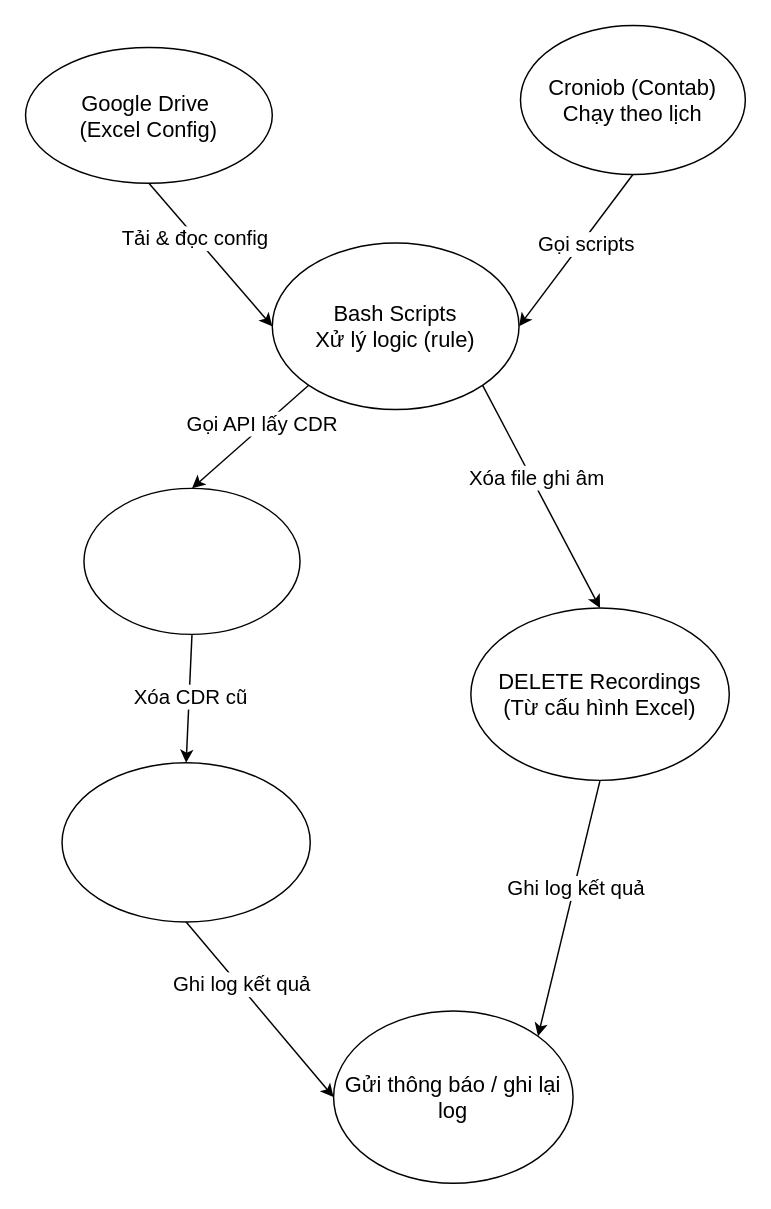
Image size: 771x1209. Some labels were removed from this diagram. The box of each missing label's shape, as (x1, y1, x2, y2) in pixels:
API Get CDR (Theo cấu hình): (82, 487, 300, 634)
Delete CDR từ API: (61, 761, 310, 922)
